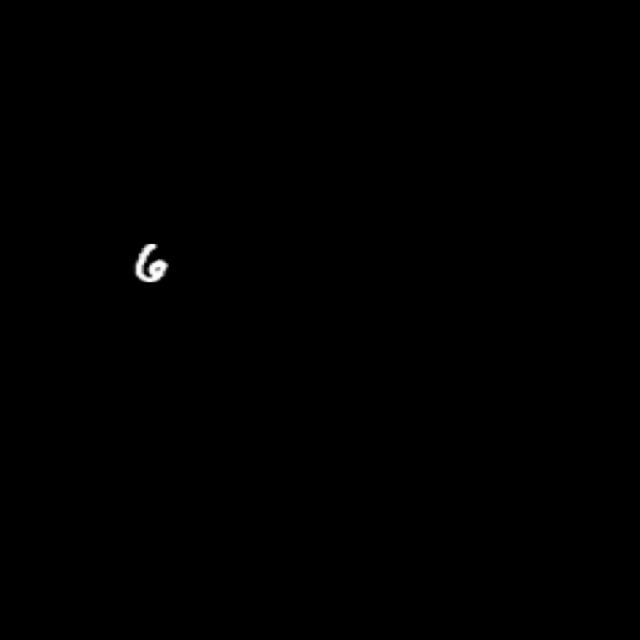six -6-: (125, 239, 182, 291)
